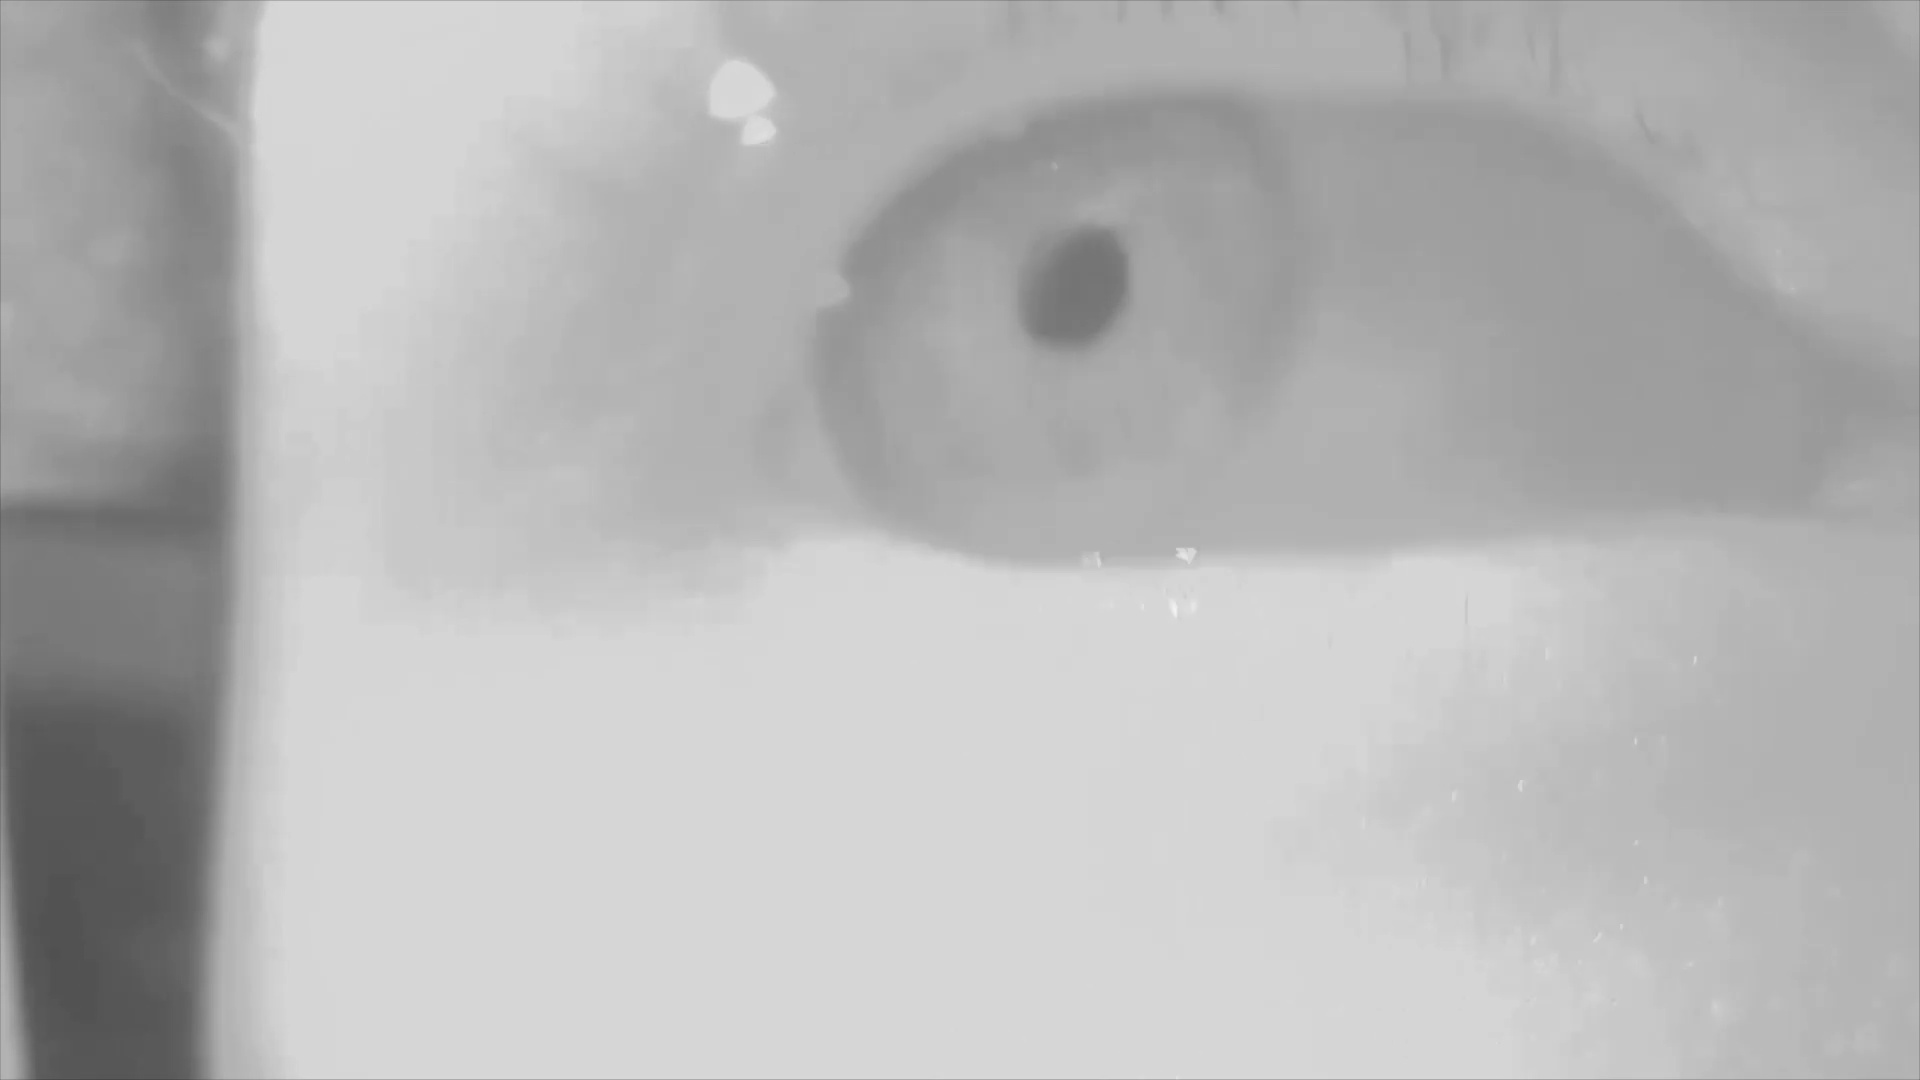pupil: (1010, 228, 1136, 353)
